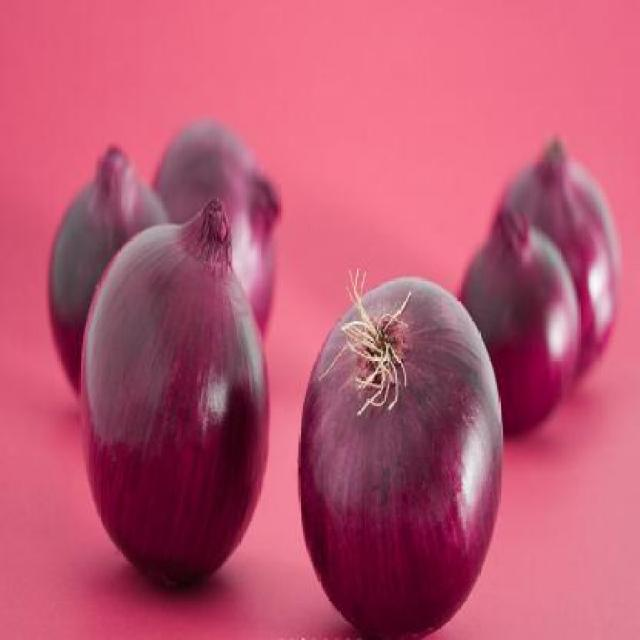onion: (66, 205, 274, 585), (295, 278, 502, 636), (452, 202, 590, 432), (46, 132, 156, 398), (498, 137, 613, 363), (153, 123, 284, 317)
